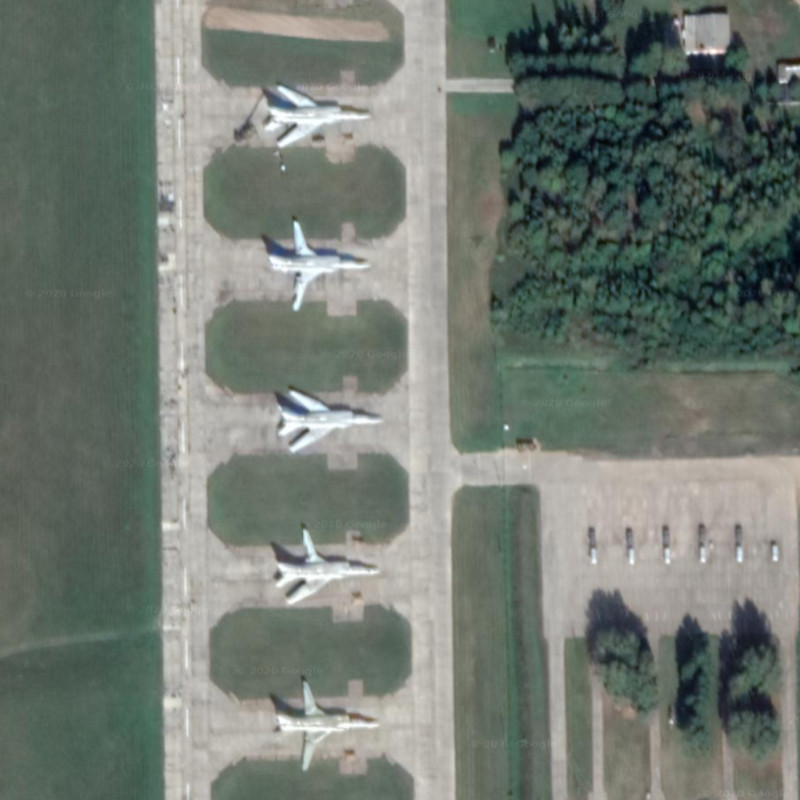A12: (251, 669, 394, 778), (254, 210, 374, 316), (262, 367, 393, 457), (266, 516, 387, 613), (249, 72, 376, 155)
